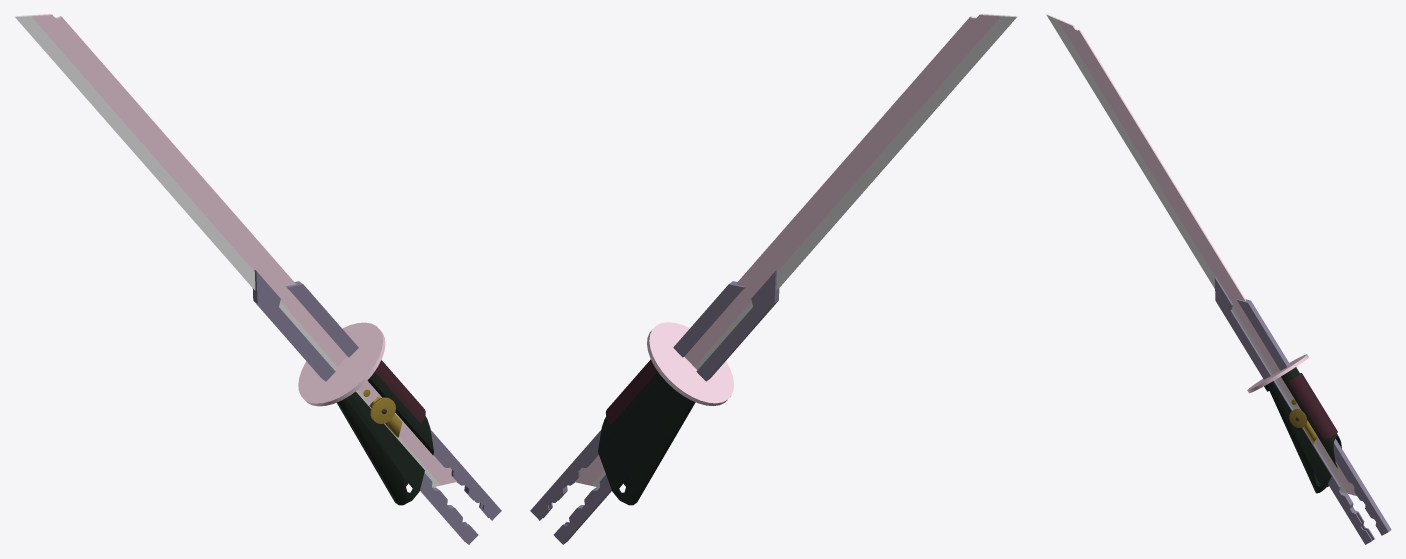
File: Katana.fbx
3 renders of one model, left to right at view 1: azimuth 30°, elevation 25°; view 2: azimuth 150°, elevation 25°; view 3: azimuth 330°, elevation 25°, orthographic. The views are drawn at different scales.
Visible parts, largest first — view 1: 平面, 平面.003, 円柱, 平面.002, 平面.001, 円柱.005; view 2: 平面, 平面.003, 円柱, 平面.002, 平面.001, 円柱.005; view 3: 平面, 平面.003, 平面.002, 平面.001, 円柱.005, 円柱.
Boxes of the visible parts, x1=… form: 平面: x1=14, y1=14, x2=456, y2=487; 平面.003: x1=337, y1=372, x2=433, y2=505; 円柱: x1=298, y1=322, x2=385, y2=406; 平面.002: x1=252, y1=270, x2=478, y2=544; 平面.001: x1=286, y1=281, x2=501, y2=520; 円柱.005: x1=375, y1=360, x2=425, y2=423; 平面: x1=575, y1=14, x2=1017, y2=487; 平面.003: x1=598, y1=372, x2=695, y2=505; 円柱: x1=647, y1=322, x2=734, y2=405; 平面.002: x1=553, y1=270, x2=779, y2=544; 平面.001: x1=530, y1=281, x2=745, y2=520; 円柱.005: x1=605, y1=359, x2=657, y2=424; 平面: x1=1046, y1=14, x2=1356, y2=495; 平面.003: x1=1267, y1=367, x2=1341, y2=493; 平面.002: x1=1214, y1=276, x2=1374, y2=544; 平面.001: x1=1237, y1=299, x2=1391, y2=535; 円柱.005: x1=1288, y1=373, x2=1337, y2=440; 円柱: x1=1247, y1=354, x2=1308, y2=393.
Size of the model in its own units: 2134 by 1701 by 276.
